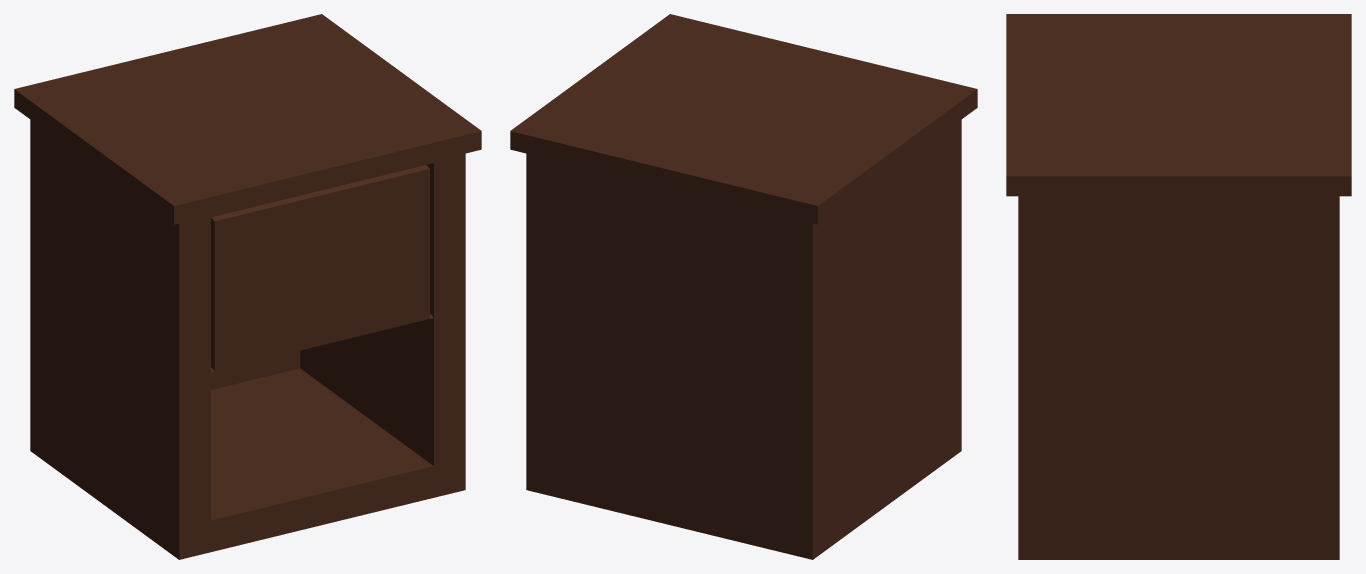
File: Bedroom_Nightstand.fbx
3 renders of one model, left to right at view 1: azimuth 30°, elevation 25°; view 2: azimuth 150°, elevation 25°; view 3: azimuth 270°, elevation 25°, orthographic. The views are drawn at different scales.
Parts seen in each view (by area): view 1: Bedroom_Nightstand; view 2: Bedroom_Nightstand; view 3: Bedroom_Nightstand.
Part boxes in pixels (<box>): Bedroom_Nightstand: <box>14,14,481,559</box>; Bedroom_Nightstand: <box>510,14,977,559</box>; Bedroom_Nightstand: <box>1006,14,1351,559</box>.
Bounding box in the file's own units: 53.7 × 60.11 × 48.33.
